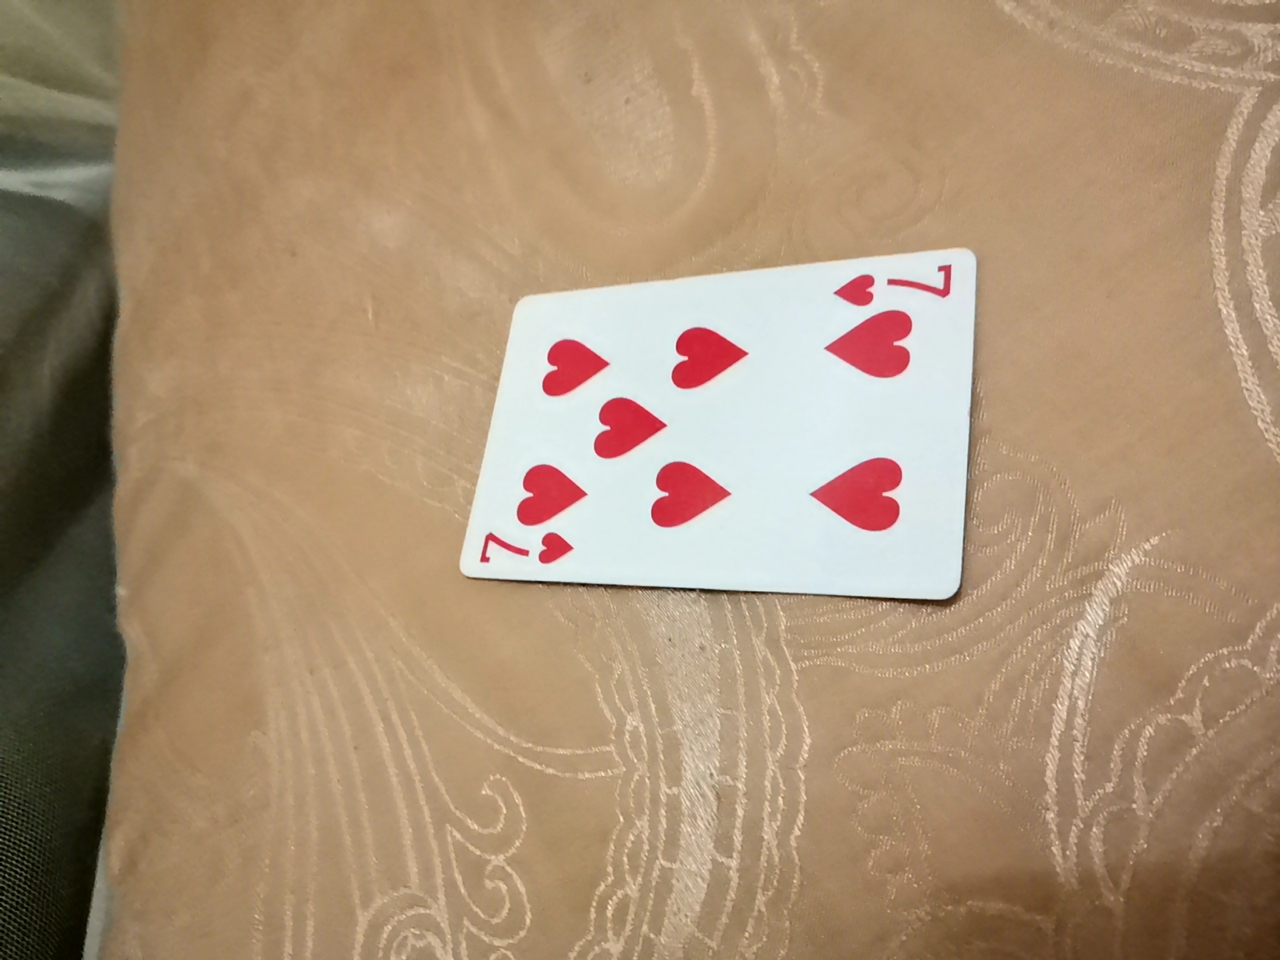hx 7: (447, 252, 967, 597)
